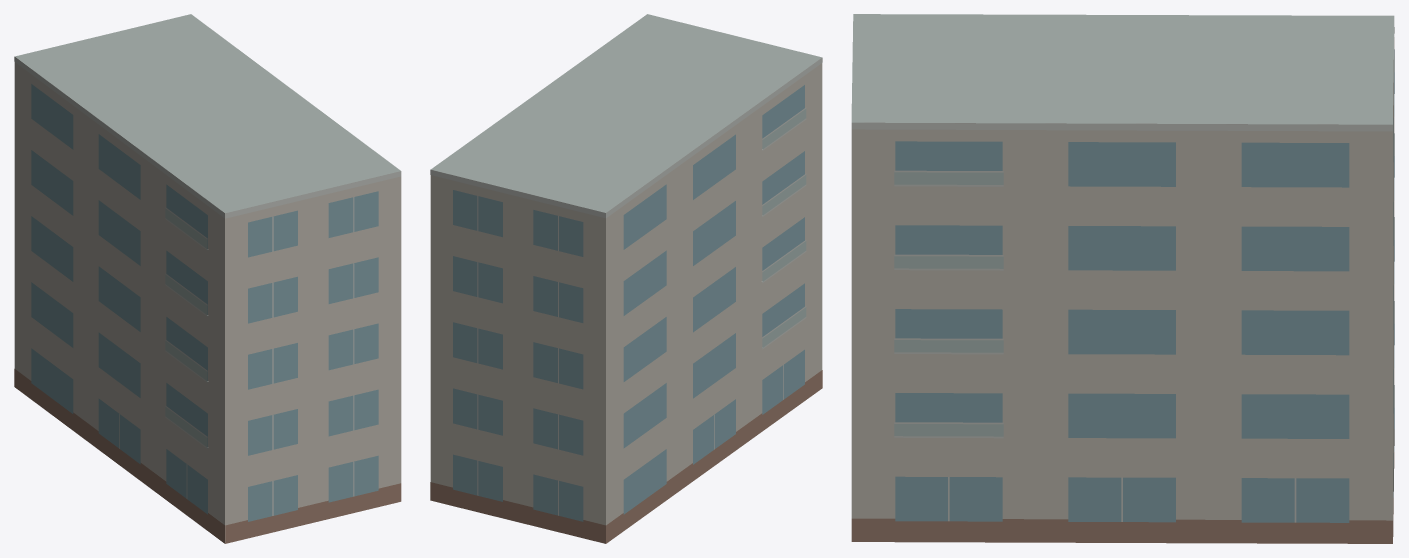
The model's file is survey-upis-32638042.glb.
3 renders of one model, left to right at view 1: azimuth 30°, elevation 25°; view 2: azimuth 150°, elevation 25°; view 3: azimuth 270°, elevation 25°, orthographic. The views are drawn at different scales.
Visible parts, largest first — view 1: survey-upis-32638042.tmp; view 2: survey-upis-32638042.tmp; view 3: survey-upis-32638042.tmp.
Part boxes in pixels (<box>): survey-upis-32638042.tmp: <box>14,14,401,543</box>; survey-upis-32638042.tmp: <box>430,14,822,543</box>; survey-upis-32638042.tmp: <box>851,14,1394,543</box>.
Bounding box in the file's own units: 8.58 × 15.1 × 17.74.
